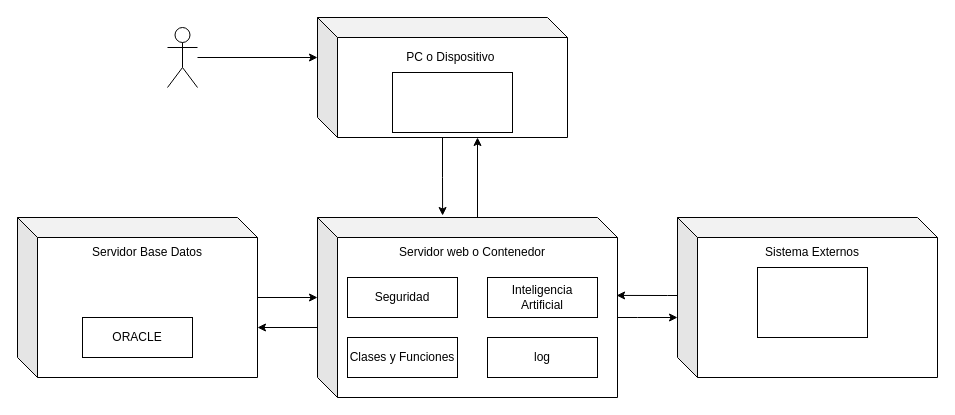
The diagram is 955 pixels wide and 415 high, and some of its shapes have lost their labels. The centre of each missing label's shape, as x and y in pixels:
"DGII SAP" belongs at pixel 812 302.
"Navegador" belongs at pixel 452 102.
"Usuario" belongs at pixel 182 57.
